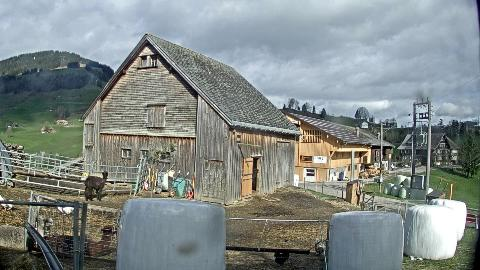car: (390, 162, 396, 172)
sheep: (38, 226, 118, 258), (1, 216, 57, 254), (84, 170, 108, 202)
